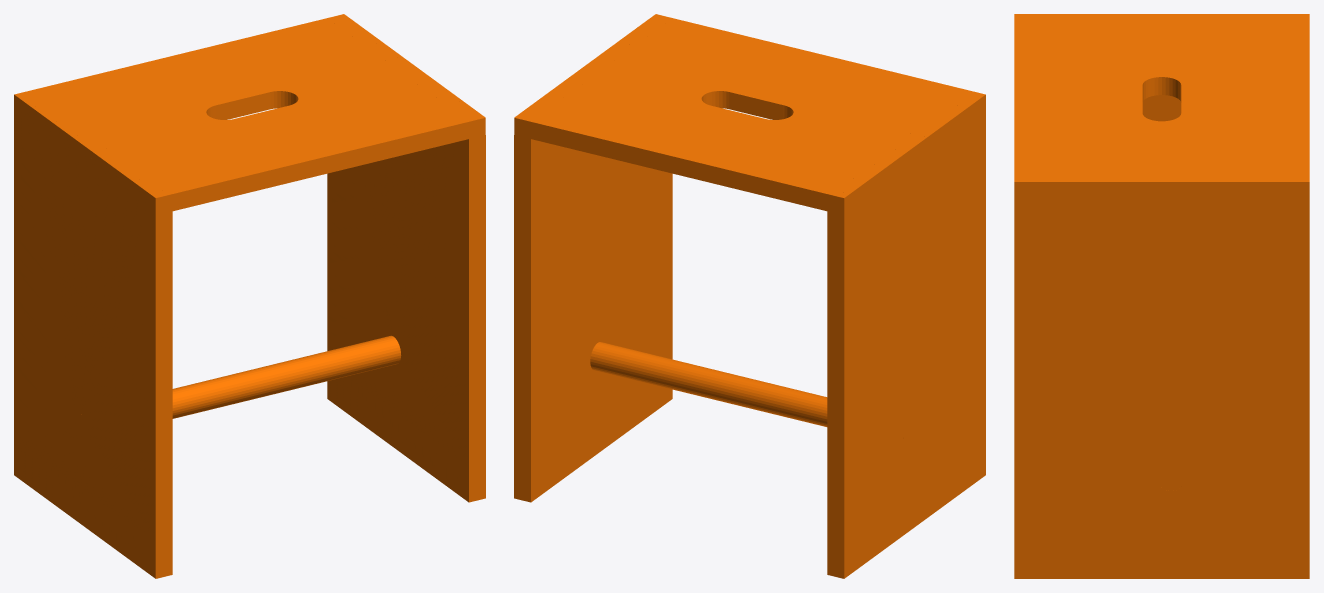
The model's file is Ulmer_Hocker02.glb.
3 renders of one model, left to right at view 1: azimuth 30°, elevation 25°; view 2: azimuth 150°, elevation 25°; view 3: azimuth 270°, elevation 25°, orthographic. The views are drawn at different scales.
Visible parts, largest first — view 1: Seitenwand (×2), Sitzfläche, Fuß (×2), Stange; view 2: Seitenwand (×2), Sitzfläche, Fuß (×2), Stange; view 3: Seitenwand (×2), Sitzfläche, Fuß, Stange.
Boxes of the visible parts, x1,y1,x2,y2 form: Seitenwand (×2): (14,18,485,550); Sitzfläche: (14,14,485,215); Fuß (×2): (14,377,485,578); Stange: (73,335,401,440); Seitenwand (×2): (514,18,985,550); Sitzfläche: (514,14,985,215); Fuß (×2): (514,383,985,578); Stange: (590,342,917,446); Seitenwand (×2): (1014,14,1309,541); Sitzfläche: (1014,14,1309,199); Fuß: (1014,542,1309,578); Stange: (1155,463,1185,490).
Size of the model in its own units: 0.3901 by 0.43 by 0.29.
